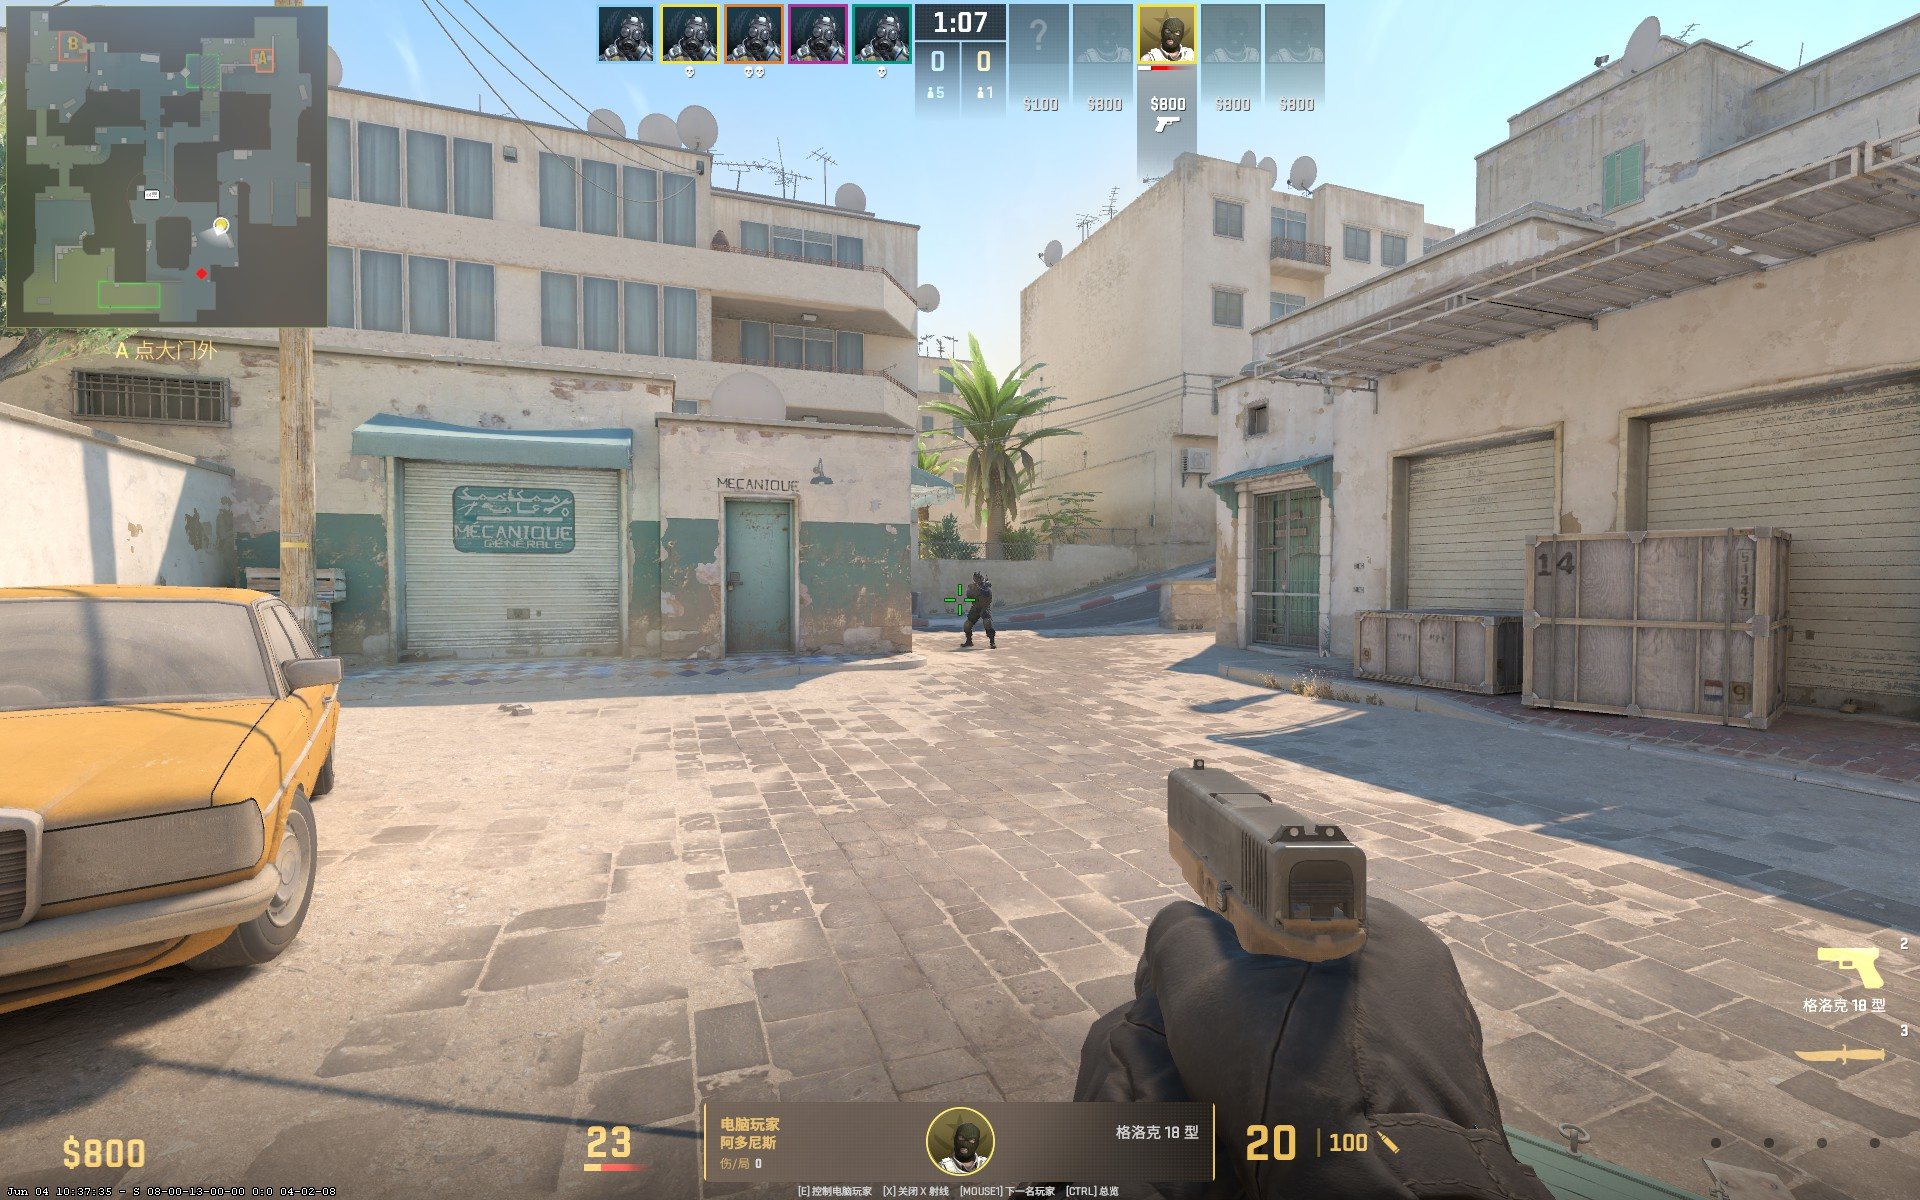CT: (954, 575, 999, 654)
crosshair: (941, 588, 979, 618)
